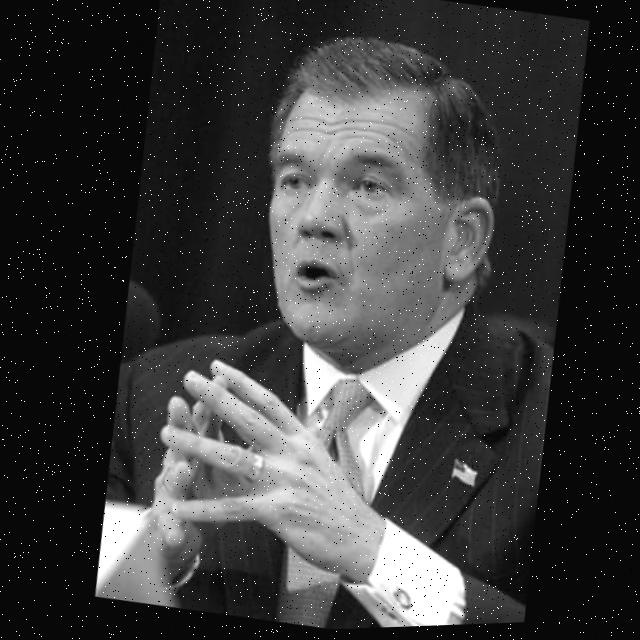face: (240, 73, 468, 381)
